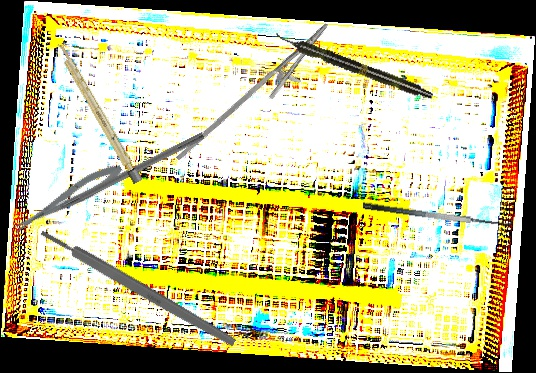Handpiece: (273, 29, 435, 103)
Hook Surgical: (34, 130, 206, 224)
Micro Scissor: (8, 158, 127, 238)
Needle Holder: (175, 6, 341, 187)
Scalpel Handle: (38, 226, 238, 349), (54, 41, 143, 185)
Spatula Surgical: (362, 189, 514, 234)
